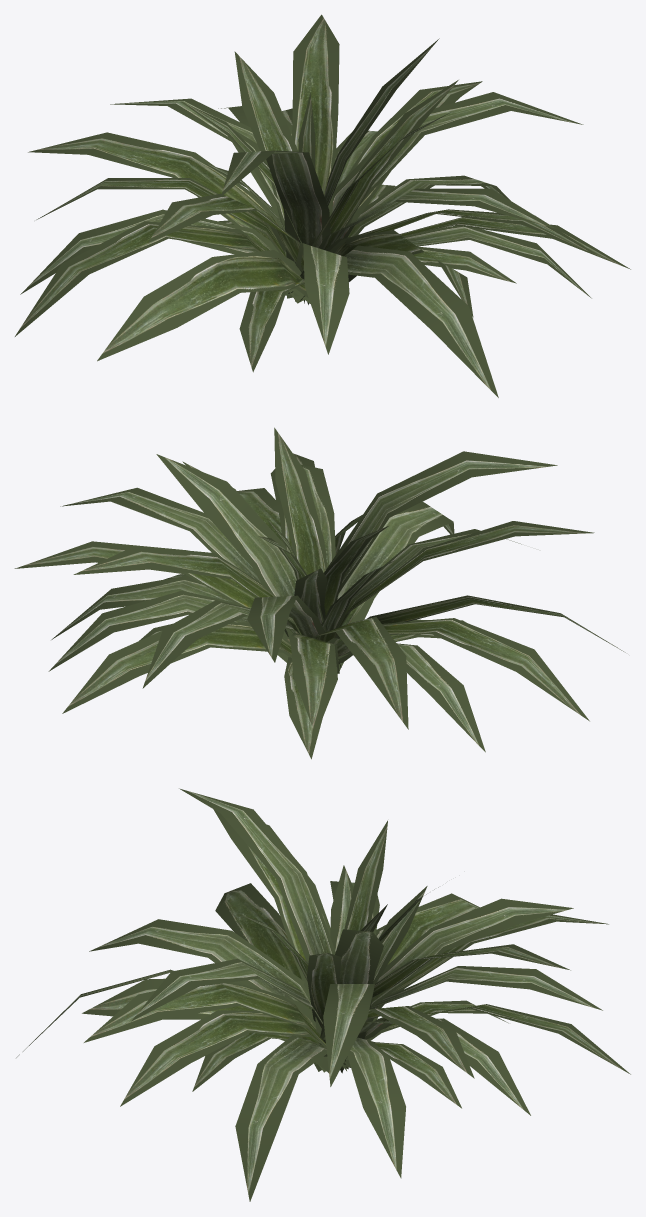
The model's file is Dracaena_derm1_LOD0.fbx.
3 renders of one model, top to bottom at view 1: azimuth 30°, elevation 25°; view 2: azimuth 150°, elevation 25°; view 3: azimuth 270°, elevation 25°, orthographic. The views are drawn at different scales.
Parts seen in each view (by area): view 1: polySurface45; view 2: polySurface45; view 3: polySurface45.
Part boxes in pixels (bbox=[...]): polySurface45: bbox=[15, 14, 630, 397]; polySurface45: bbox=[14, 427, 625, 759]; polySurface45: bbox=[16, 788, 630, 1201].
Size of the model in its own units: 1.74 by 0.7118 by 1.71.
Materials: 1 (1 with a texture image).
